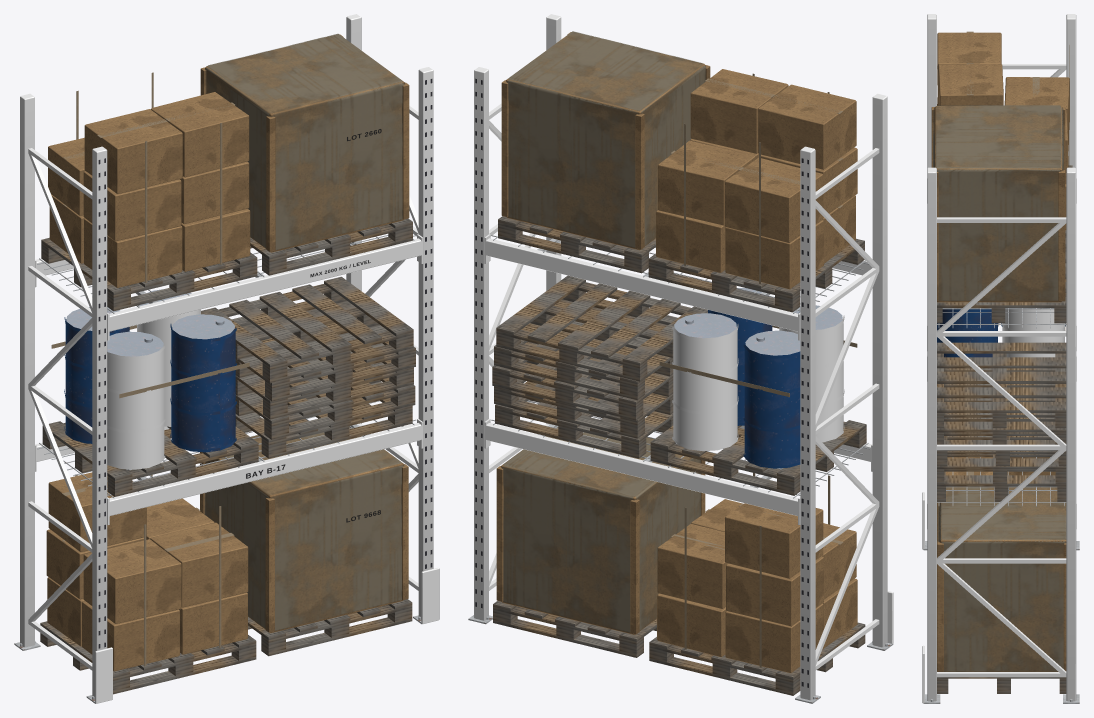
File: shelf_rack.glb
The picture shows the model from 3 angles, left to right: view 1: azimuth 30°, elevation 25°; view 2: azimuth 150°, elevation 25°; view 3: azimuth 270°, elevation 25°; orthographic projection. The views are drawn at different scales.
Parts seen in each view (by area): view 1: shelf_rack; view 2: shelf_rack; view 3: shelf_rack.
Boxes of the visible parts, x1,y1,x2,y2 form: shelf_rack: [14, 14, 439, 703]; shelf_rack: [468, 14, 893, 703]; shelf_rack: [922, 14, 1079, 703].
Size of the model in its own units: 2.75 by 4.2 by 1.13.
16 materials, 16 textured.
